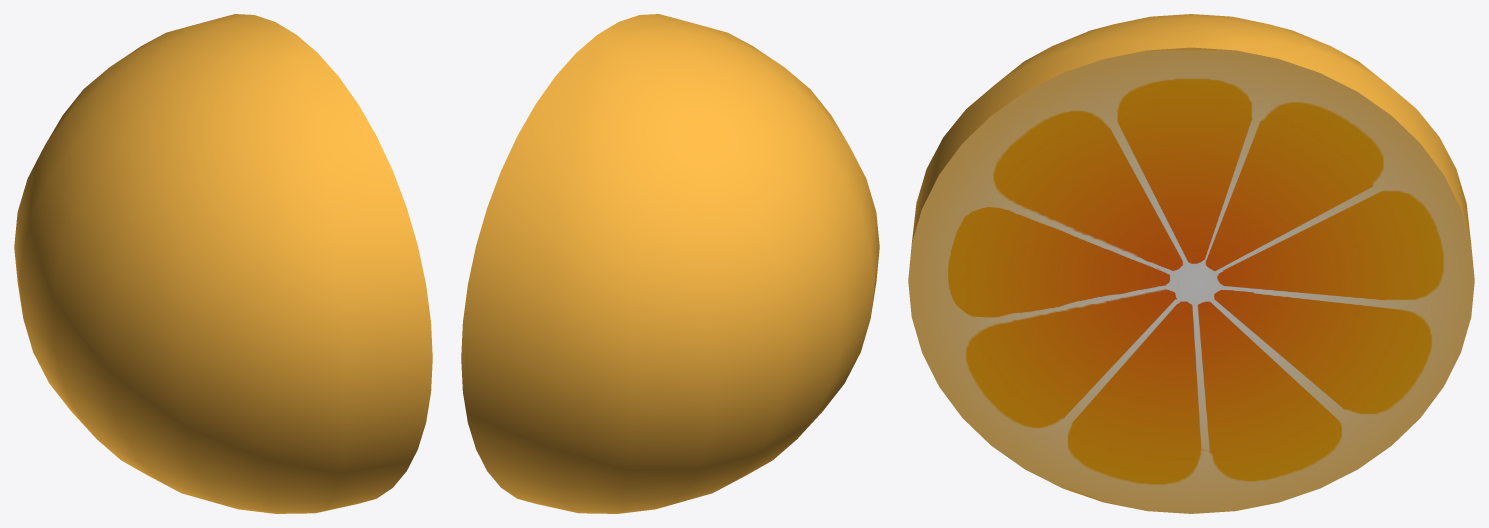
File: orange-half.fbx
3 views of the same model, side by side, from view 1: azimuth 30°, elevation 25°; view 2: azimuth 150°, elevation 25°; view 3: azimuth 270°, elevation 25° (orthographic). The views are drawn at different scales.
Visible parts, largest first — view 1: orange_half; view 2: orange_half; view 3: orange_half.
Boxes of the visible parts, x1,y1,x2,y2 form: orange_half: (14,14,432,513); orange_half: (461,14,879,513); orange_half: (908,14,1474,513).
Bounding box in the file's own units: 3.12 × 5.47 × 6.02.
1 material, 1 textured.
